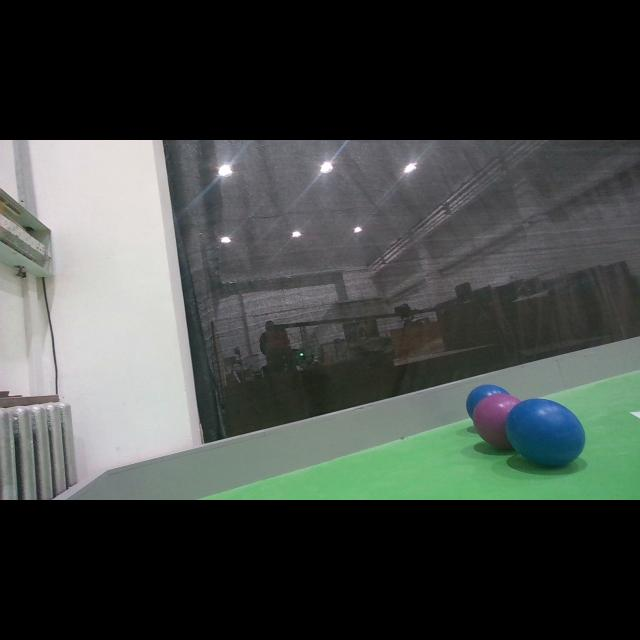B: (504, 398, 586, 468), (466, 384, 510, 422)
